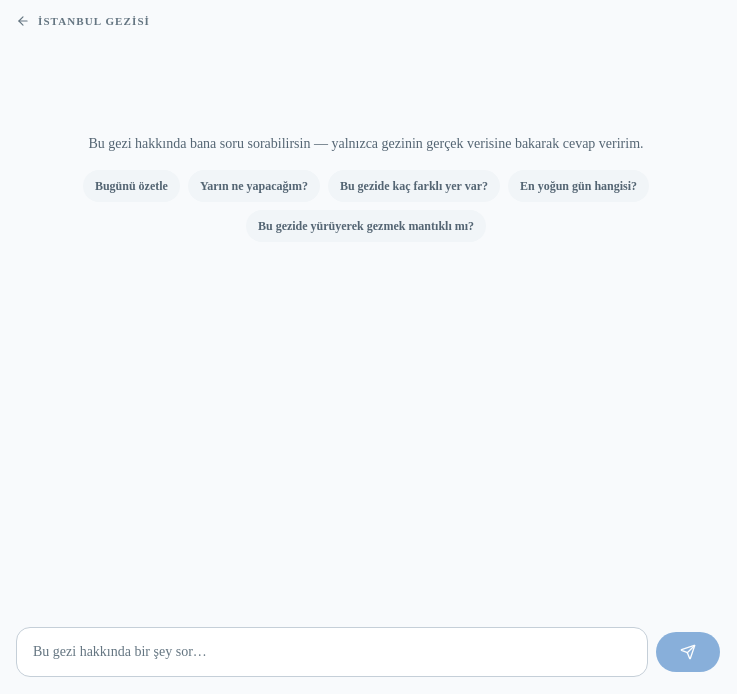
Test case: TripAssistantPage › clicking a suggested prompt sends it as a message
Click the button "Bugünü özetle". click: (131, 186)
box: 83,170 -> 180,202
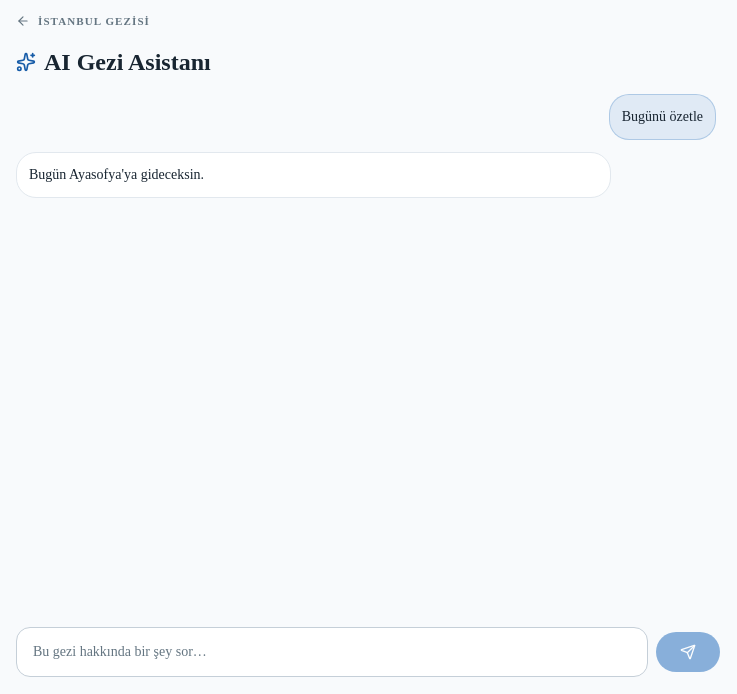
Expected: the text "Bugünü özetle" is shown, 609,94 -> 716,140
Result: the text "Bugün Ayasofya'ya gideceksin." is shown at 16,152 -> 611,198
